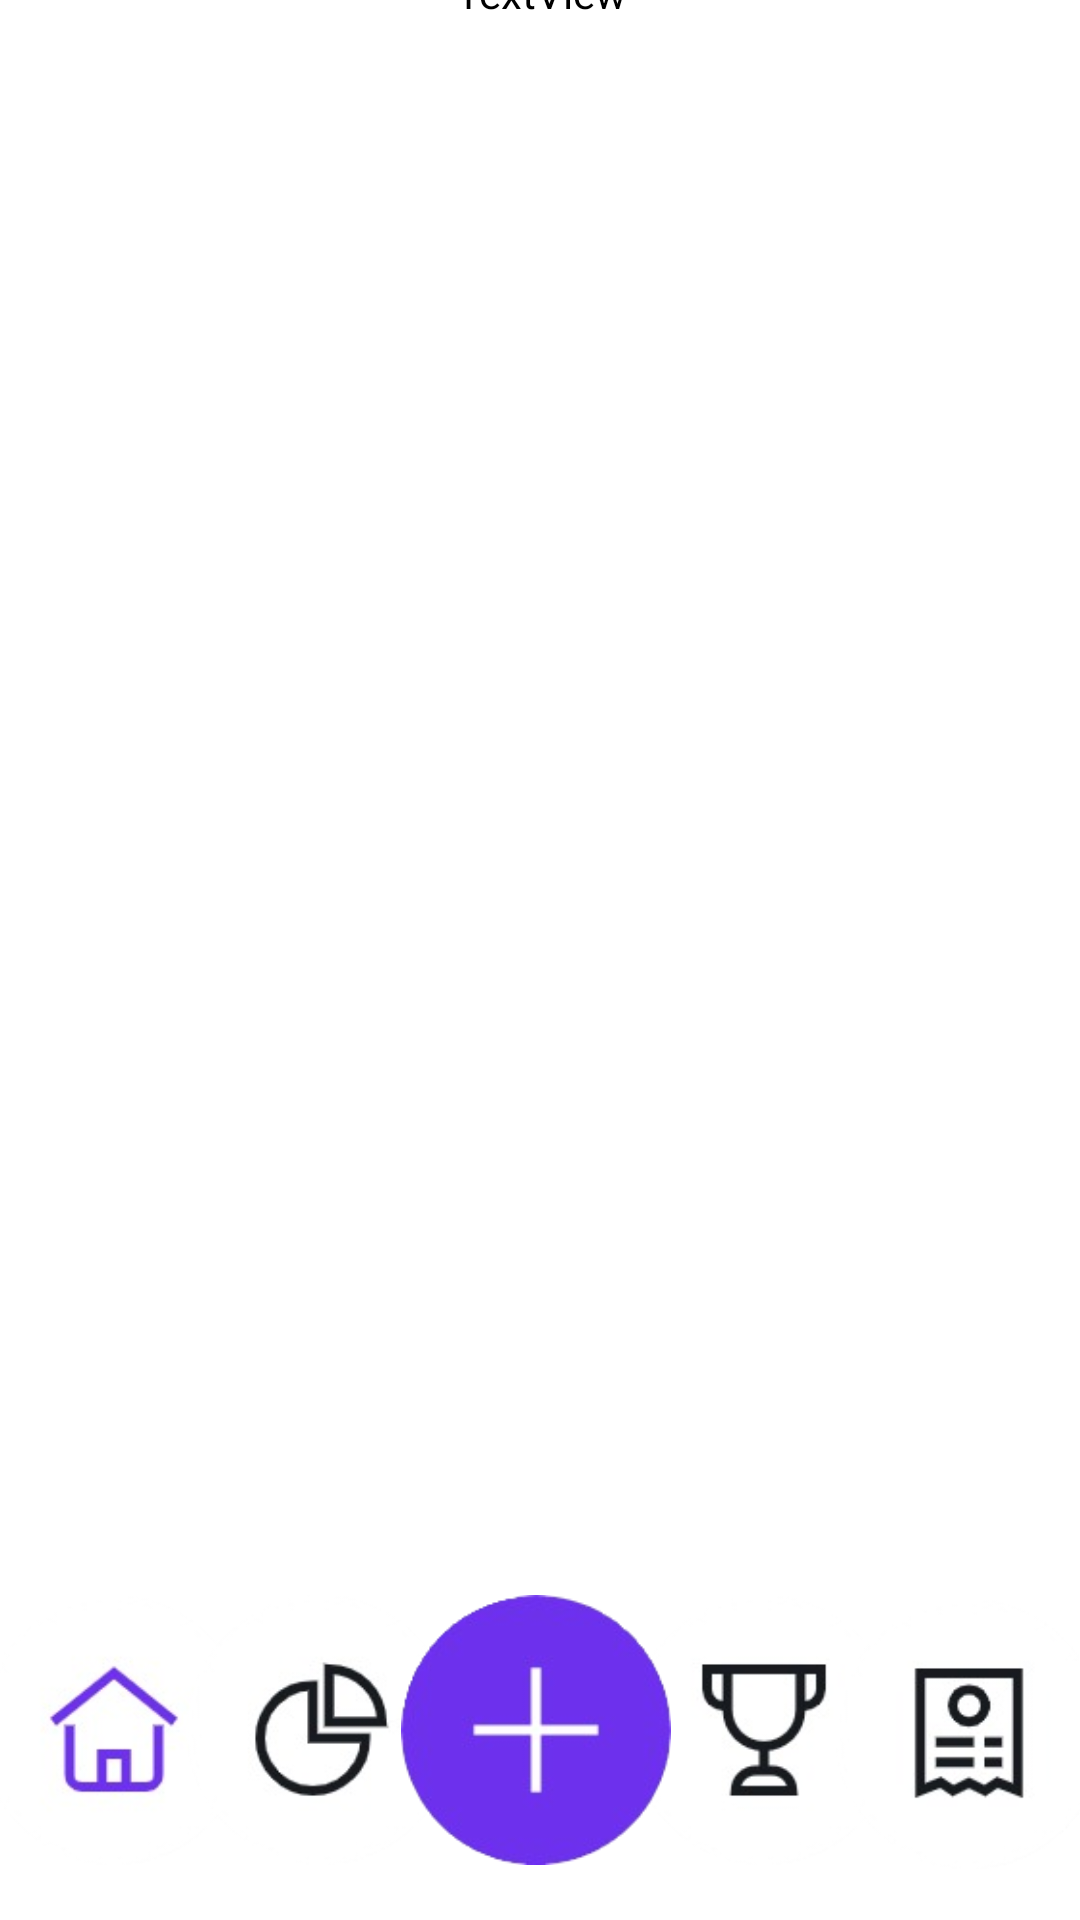

Screen size 1080×1920. Icon name, then its center in pixels as [x,y]:
add: [536,1730]
bill: [969,1733]
chal: [764,1730]
home on: [114,1729]
stat: [355,1731]
